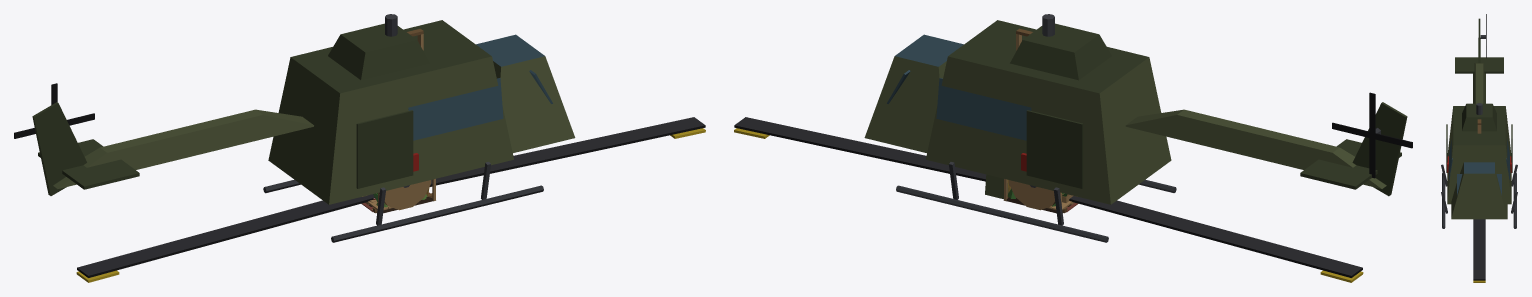
The model's file is world.glb.
3 renders of one model, left to right at view 1: azimuth 30°, elevation 25°; view 2: azimuth 150°, elevation 25°; view 3: azimuth 270°, elevation 25°, orthographic. The views are drawn at different scales.
Parts seen in each view (by area): view 1: heli, heli_rotor, wagon; view 2: heli, heli_rotor, wagon, stall; view 3: heli, heli_rotor, frame.
Part boxes in pixels (x1=…): heli: x1=14, y1=14, x2=575, y2=242; heli_rotor: x1=76, y1=117, x2=705, y2=282; wagon: x1=379, y1=180, x2=431, y2=210; heli: x1=864, y1=14, x2=1412, y2=242; heli_rotor: x1=734, y1=117, x2=1363, y2=282; wagon: x1=1008, y1=180, x2=1060, y2=210; stall: x1=985, y1=174, x2=1077, y2=212; heli: x1=1441, y1=14, x2=1517, y2=228; heli_rotor: x1=1473, y1=219, x2=1485, y2=282; frame: x1=1477, y1=119, x2=1481, y2=133.
Size of the model in its own units: 11 by 3.02 by 2.04.
